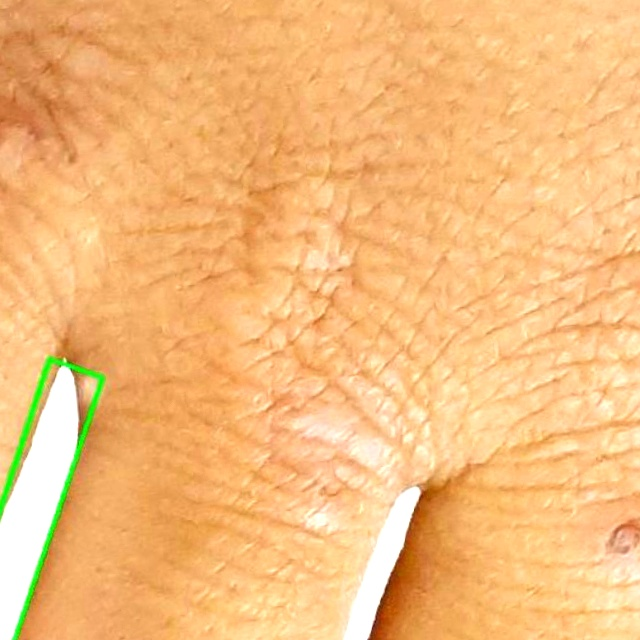Scabies: (0, 358, 104, 639)
